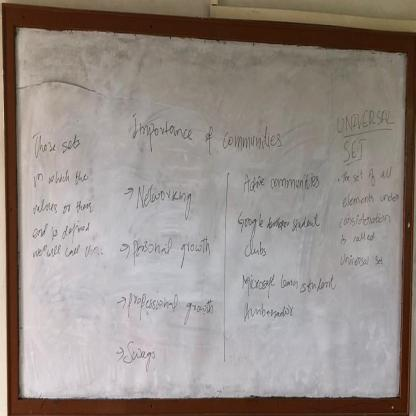Handwritten text: (130, 111, 283, 161), (126, 287, 217, 328), (132, 231, 214, 275), (235, 205, 323, 238), (240, 167, 324, 201), (240, 269, 341, 297), (135, 180, 199, 222), (28, 220, 93, 247), (335, 107, 397, 135), (30, 127, 82, 159), (31, 164, 95, 190), (30, 194, 97, 218), (123, 335, 159, 378), (241, 300, 295, 328), (339, 190, 402, 211), (330, 211, 395, 230), (341, 249, 388, 274), (339, 167, 394, 188), (341, 137, 372, 162), (341, 230, 382, 247), (244, 238, 270, 262)
Whiteboard: (7, 21, 409, 409)
